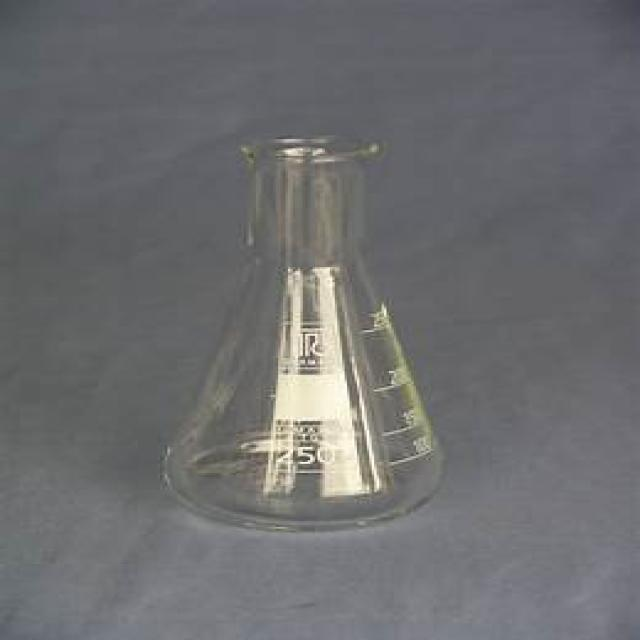Titrarion: (133, 124, 455, 537)
